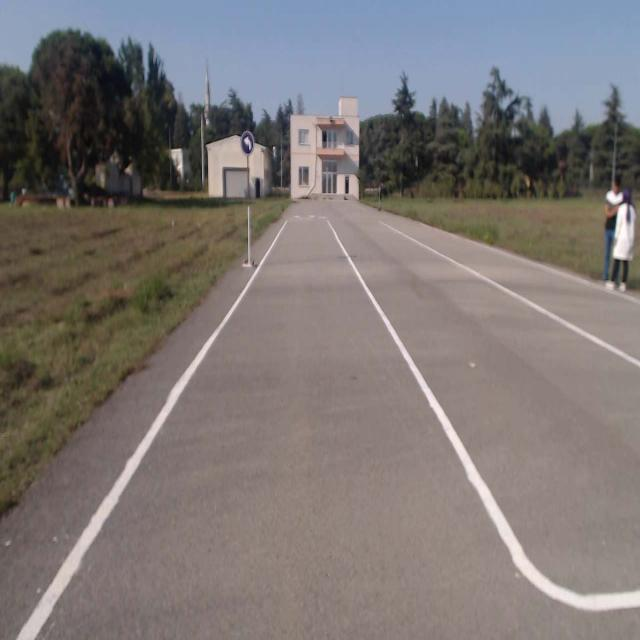sol: (240, 131, 254, 156)
